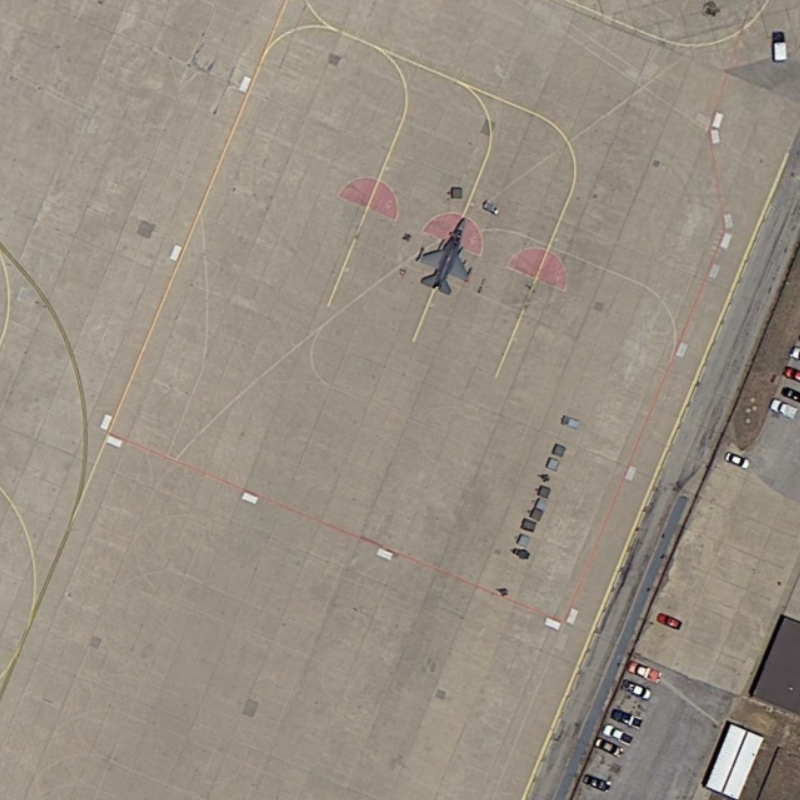A5: (408, 211, 483, 298)
